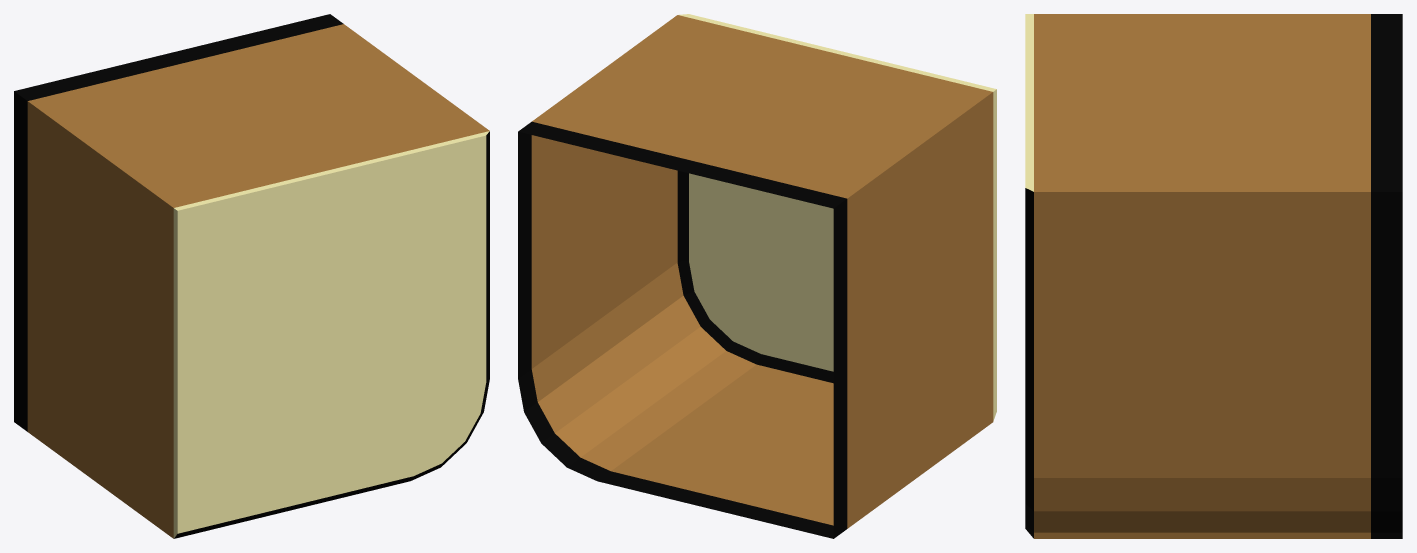
The model's file is Cuerpo_2_Lados.fbx.
3 renders of one model, left to right at view 1: azimuth 30°, elevation 25°; view 2: azimuth 150°, elevation 25°; view 3: azimuth 270°, elevation 25°, orthographic. The views are drawn at different scales.
Parts seen in each view (by area): view 1: Cuerpo_1Esquina; view 2: Cuerpo_1Esquina; view 3: Cuerpo_1Esquina.
Boxes of the visible parts, x1,y1,x2,y2 form: Cuerpo_1Esquina: (14, 14, 489, 538); Cuerpo_1Esquina: (518, 14, 996, 538); Cuerpo_1Esquina: (1025, 14, 1402, 538).
Bounding box in the file's own units: 400 × 400 × 358.
